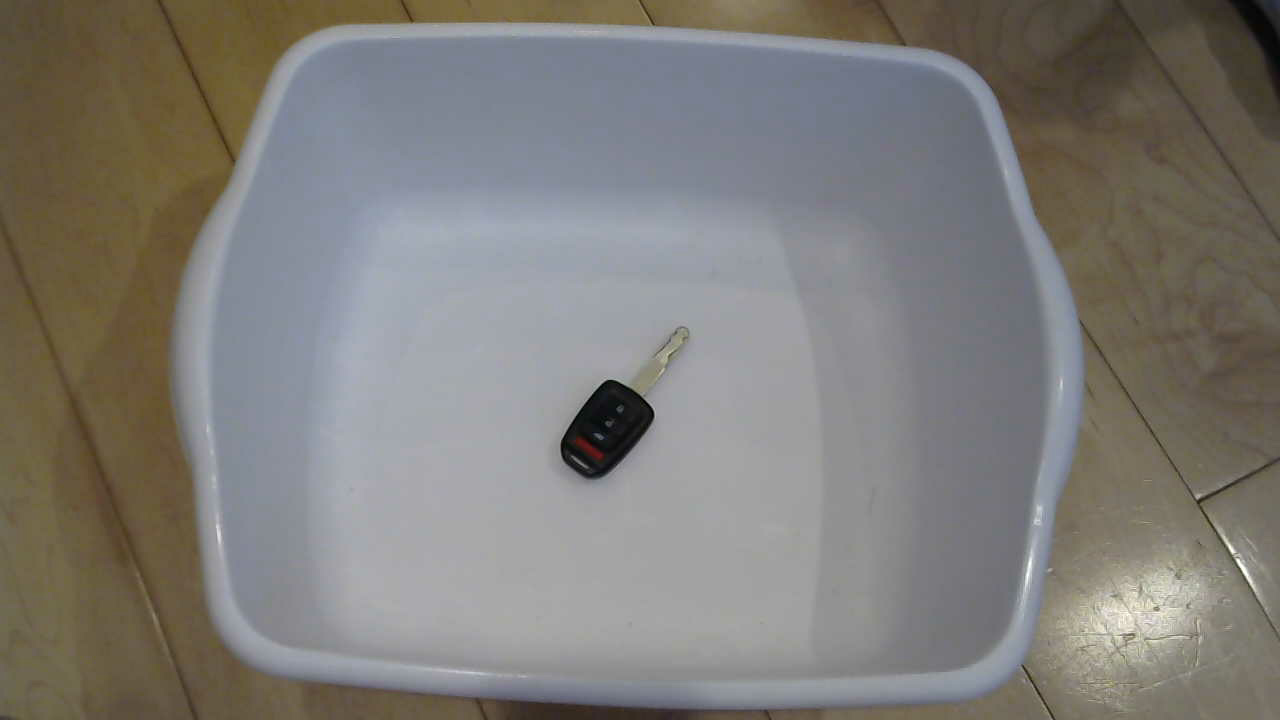key: (559, 313, 702, 495)
